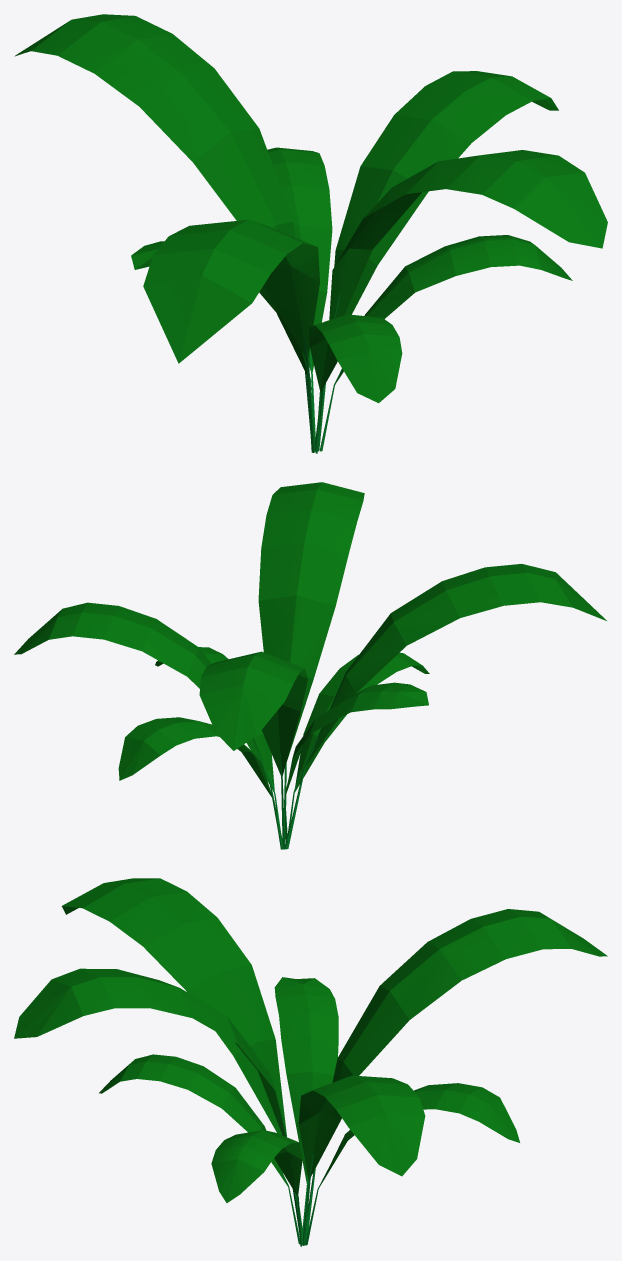
Rendered from Fern-01.fbx.
3 views of the same model, one above another, from view 1: azimuth 30°, elevation 25°; view 2: azimuth 150°, elevation 25°; view 3: azimuth 270°, elevation 25° (orthographic). The views are drawn at different scales.
Visible parts, largest first — view 1: Fern-01; view 2: Fern-01; view 3: Fern-01.
Part boxes in pixels (x1,y1,x2,y2): Fern-01: [14, 14, 607, 453]; Fern-01: [14, 482, 606, 849]; Fern-01: [14, 878, 607, 1246].
Size of the model in its own units: 3.01 by 1.81 by 3.25.
